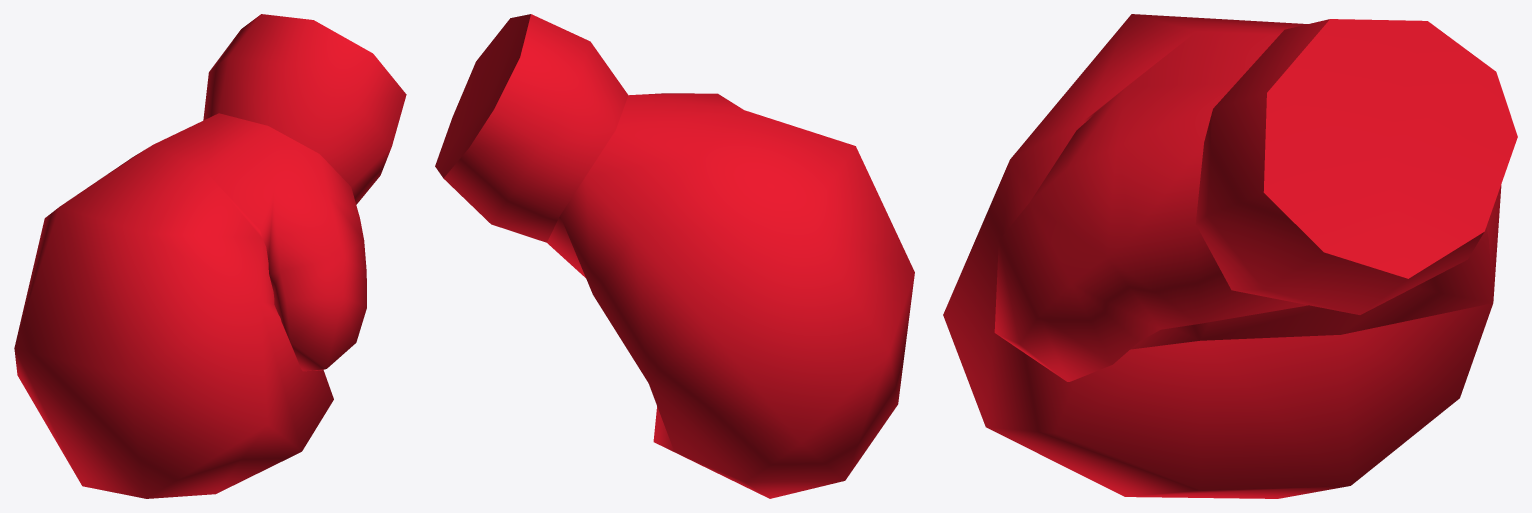
Rendered from RightBoxingGlove.fbx.
3 renders of one model, left to right at view 1: azimuth 30°, elevation 25°; view 2: azimuth 150°, elevation 25°; view 3: azimuth 270°, elevation 25°, orthographic. The views are drawn at different scales.
Visible parts, largest first — view 1: Boxing_glove_right; view 2: Boxing_glove_right; view 3: Boxing_glove_right.
Part boxes in pixels (x1,y1,x2,y2): Boxing_glove_right: (14, 14, 406, 498); Boxing_glove_right: (435, 14, 914, 498); Boxing_glove_right: (943, 14, 1517, 498).
Size of the model in its own units: 32.33 by 32.4 by 26.66.
